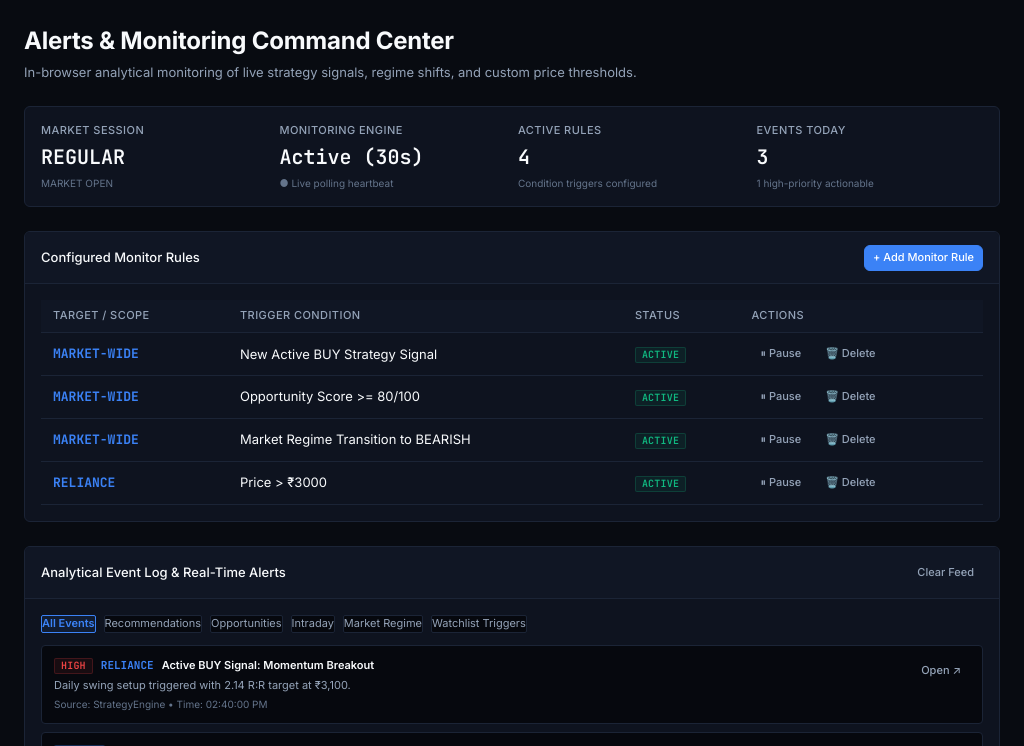
AlertsPage (FE-12) › clears event history when clear feed button is clicked
The image size is (1024, 746).
Expected: the text "Active BUY Signal: Momentum Breakout" is shown, [162,658,374,674]
Click the button "Clear Feed" at (946, 573), box [908,560,983,586]
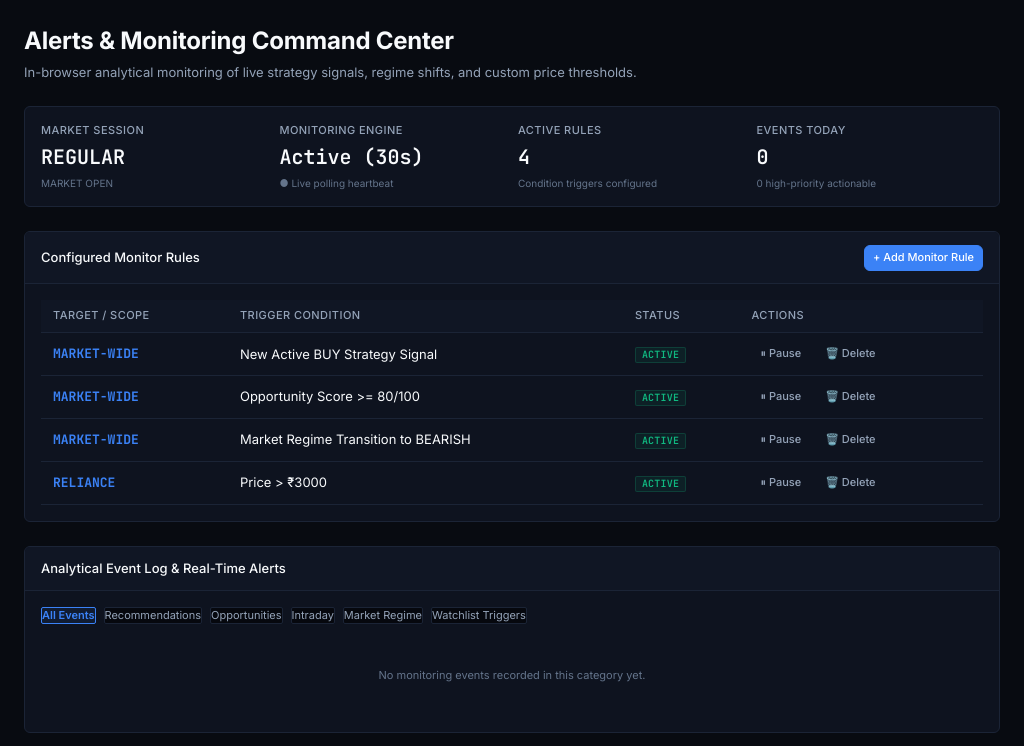
Now the text "No monitoring events recorded in this category yet." is shown, box [379,668,645,682]
